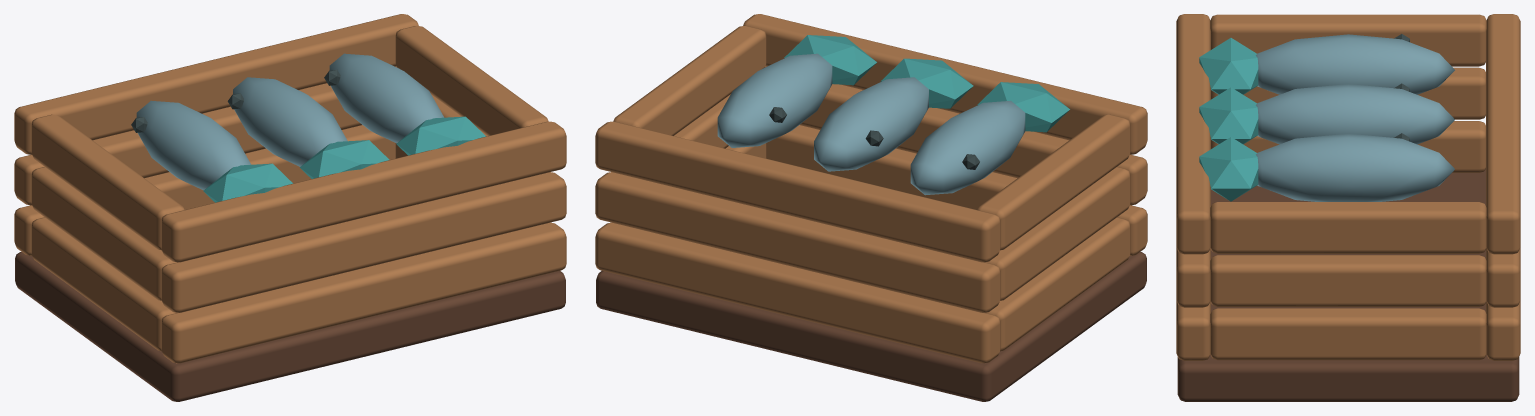
The model's file is fish-crate.glb.
3 views of the same model, side by side, from view 1: azimuth 30°, elevation 25°; view 2: azimuth 150°, elevation 25°; view 3: azimuth 270°, elevation 25° (orthographic). The views are drawn at different scales.
Parts seen in each view (by area): view 1: base, long-board-0.29-2, long-board-0.29-0, long-board-0.29-1, body (×3), long-board--0.29-2, end-board--0.415-2, end-board-0.415-2, end-board--0.415-1, end-board--0.415-0, tail (×3), long-board--0.29-1 (+1 smaller); view 2: base, body (×3), long-board--0.29-2, long-board--0.29-0, long-board--0.29-1, long-board-0.29-2, end-board--0.415-2, end-board-0.415-2, tail (×3), end-board--0.415-1, end-board--0.415-0, long-board-0.29-0 (+2 smaller); view 3: body (×3), base, end-board-0.415-0, end-board-0.415-2, end-board-0.415-1, end-board--0.415-2, long-board--0.29-2, long-board-0.29-2, tail (×3), end-board--0.415-1, end-board--0.415-0, long-board--0.29-0 (+3 smaller).
Part boxes in pixels (bbox=[...]): base: bbox=[15, 252, 565, 401]; long-board-0.29-2: bbox=[161, 121, 566, 262]; long-board-0.29-0: bbox=[161, 222, 566, 363]; long-board-0.29-1: bbox=[161, 172, 566, 312]; body (×3): bbox=[136, 53, 443, 190]; long-board--0.29-2: bbox=[14, 14, 418, 154]; end-board--0.415-2: bbox=[31, 114, 184, 250]; end-board-0.415-2: bbox=[395, 26, 548, 135]; end-board--0.415-1: bbox=[31, 167, 176, 300]; end-board--0.415-0: bbox=[31, 217, 176, 351]; tail (×3): bbox=[203, 116, 485, 202]; long-board--0.29-1: bbox=[14, 66, 396, 205]; base: bbox=[596, 252, 1146, 401]; body (×3): bbox=[717, 53, 1025, 195]; long-board--0.29-2: bbox=[595, 121, 1000, 262]; long-board--0.29-0: bbox=[595, 222, 1000, 363]; long-board--0.29-1: bbox=[595, 172, 1000, 312]; long-board-0.29-2: bbox=[743, 14, 1147, 154]; end-board--0.415-2: bbox=[977, 114, 1130, 250]; end-board-0.415-2: bbox=[613, 26, 766, 135]; tail (×3): bbox=[784, 35, 1069, 132]; end-board--0.415-1: bbox=[985, 167, 1130, 300]; end-board--0.415-0: bbox=[985, 217, 1130, 351]; long-board-0.29-0: bbox=[766, 125, 1147, 255]; body (×3): bbox=[1256, 34, 1454, 201]; base: bbox=[1177, 169, 1519, 401]; end-board-0.415-0: bbox=[1210, 308, 1486, 360]; end-board-0.415-2: bbox=[1210, 202, 1486, 253]; end-board-0.415-1: bbox=[1210, 255, 1486, 306]; end-board--0.415-2: bbox=[1210, 14, 1486, 66]; long-board--0.29-2: bbox=[1486, 14, 1520, 254]; long-board-0.29-2: bbox=[1176, 14, 1210, 254]; tail (×3): bbox=[1199, 38, 1258, 201]; end-board--0.415-1: bbox=[1211, 67, 1485, 119]; end-board--0.415-0: bbox=[1211, 121, 1485, 172]; long-board--0.29-0: bbox=[1486, 301, 1520, 360].
Size of the model in its own units: 0.9 by 0.445 by 0.645.
